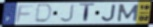D: (33, 4, 54, 24)
F: (14, 4, 35, 23)
J: (100, 4, 117, 22), (60, 4, 76, 23)
M: (116, 4, 140, 23)
T: (79, 3, 96, 24)
